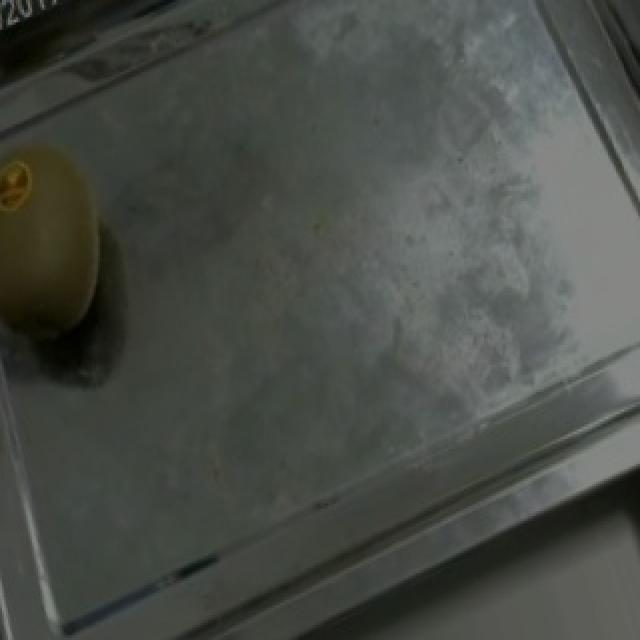Fruit: (0, 114, 148, 355)
